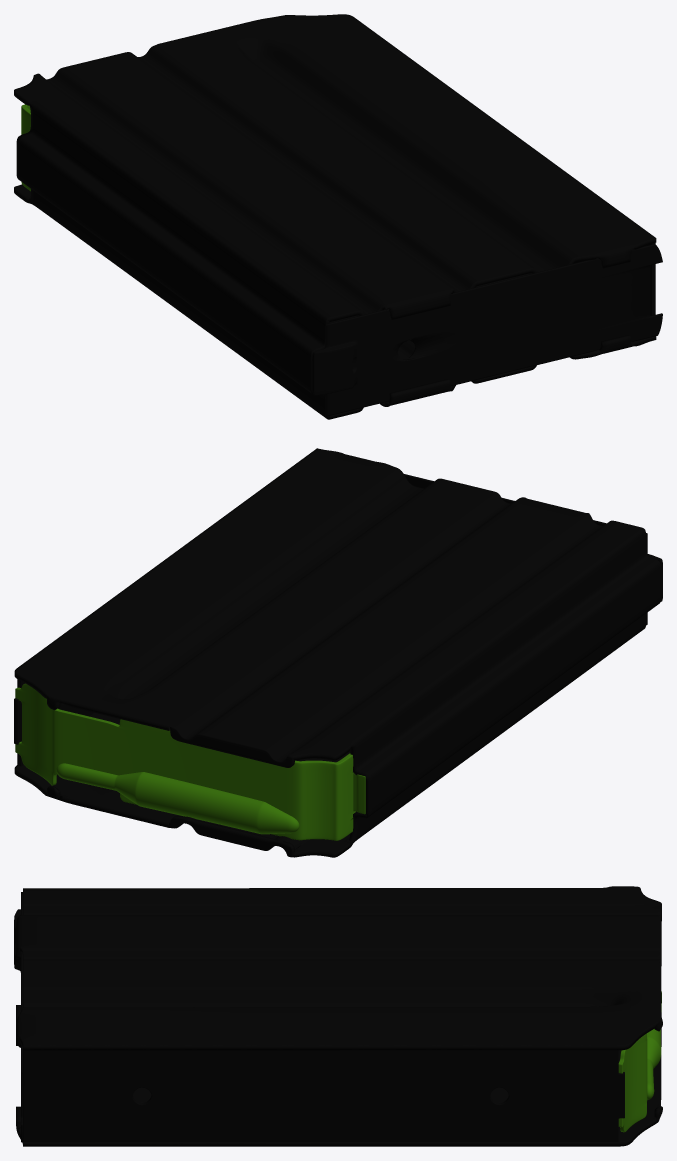
Rendered from Magzin_part 2.glb.
The picture shows the model from 3 angles, top to bottom: view 1: azimuth 30°, elevation 25°; view 2: azimuth 150°, elevation 25°; view 3: azimuth 270°, elevation 25°; orthographic projection.
Visible parts, largest first — view 1: Object005; view 2: Object005, Object002; view 3: Object005, Object002.
Boxes of the visible parts, <box> form: Object005: <box>14,14,662,419</box>; Object005: <box>14,448,662,857</box>; Object002: <box>15,683,365,840</box>; Object005: <box>14,886,662,1146</box>; Object002: <box>618,991,661,1132</box>.
Bounding box in the file's own units: 3.07 × 0.8509 × 4.97.
